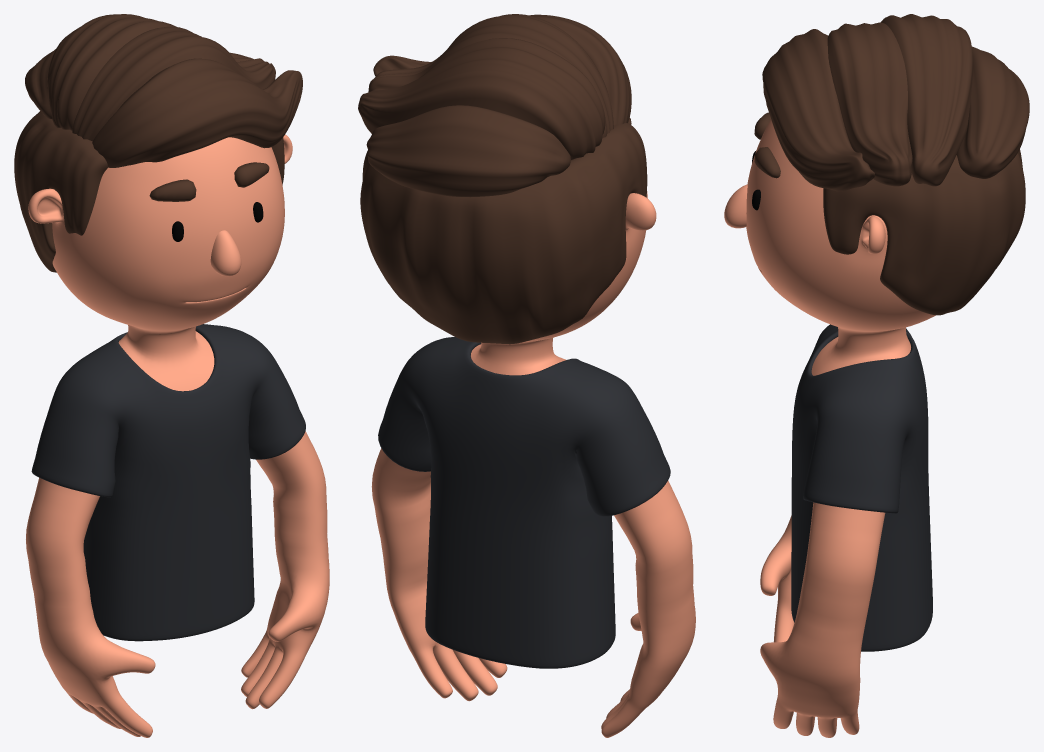
3 renders of one model, left to right at view 1: azimuth 30°, elevation 25°; view 2: azimuth 150°, elevation 25°; view 3: azimuth 270°, elevation 25°, orthographic. The views are drawn at different scales.
Parts seen in each view (by area): view 1: body, T-shirt, Hair_6a, Hair_6b, Eyebrow.004, nose; view 2: T-shirt, Hair_6b, Hair_6a, body; view 3: body, Hair_6a, T-shirt, Hair_6b, Eyebrow.004, nose.
Boxes of the visible parts, x1,y1,x2,y2 form: body: (26,134,329,737); T-shirt: (31,324,305,641); Hair_6a: (25,14,302,167); Hair_6b: (14,111,284,272); Eyebrow.004: (149,162,269,201); nose: (210,230,241,276); T-shirt: (378,337,670,668); Hair_6b: (360,123,647,344); Hair_6a: (358,14,631,197); body: (371,191,695,737); body: (746,119,935,737); Hair_6a: (762,14,1029,191); T-shirt: (791,324,932,651); Hair_6b: (823,149,1025,315); Eyebrow.004: (754,112,780,178); nose: (724,184,747,228).
Bounding box in the file's own units: 6.15 × 13.51 × 5.52.
